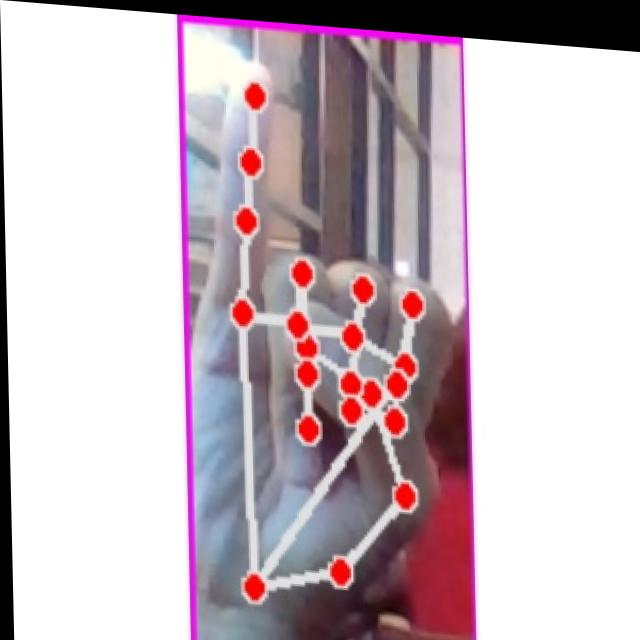I: (189, 47, 458, 640)
